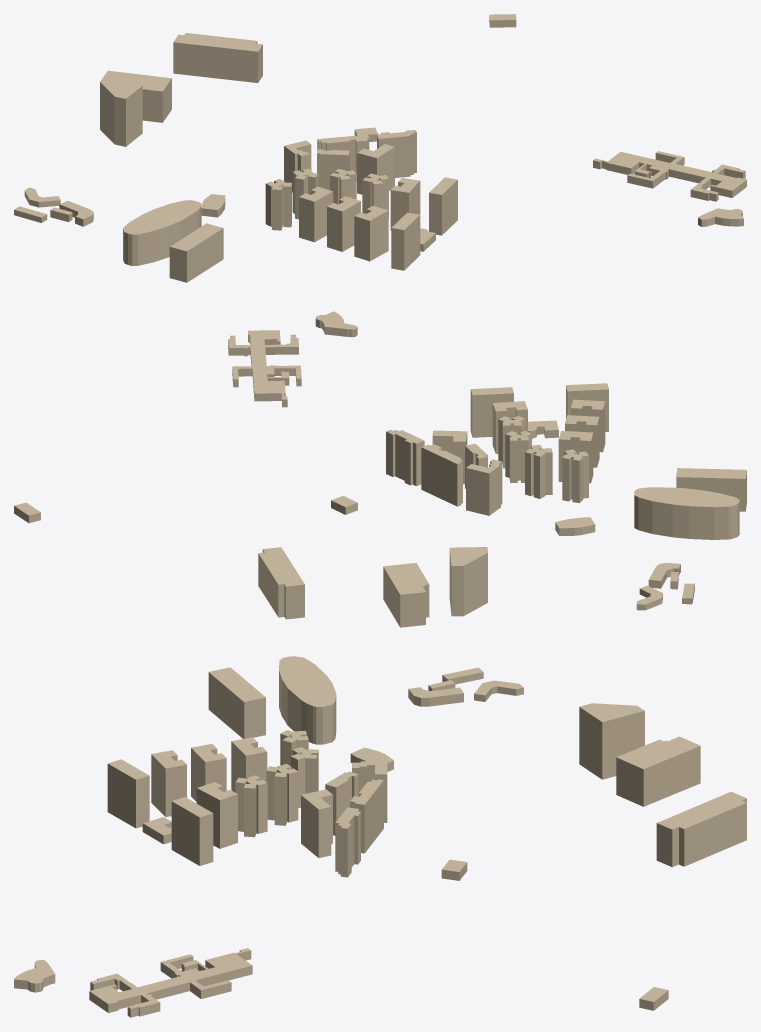
The model's file is -21_12-estimated-coarse.glb.
The picture shows the model from 3 angles, top to bottom: view 1: azimuth 30°, elevation 25°; view 2: azimuth 150°, elevation 25°; view 3: azimuth 270°, elevation 25°; orthographic projection. The views are drawn at different scales.
Size of the model in its own units: 999 by 78 by 900.
